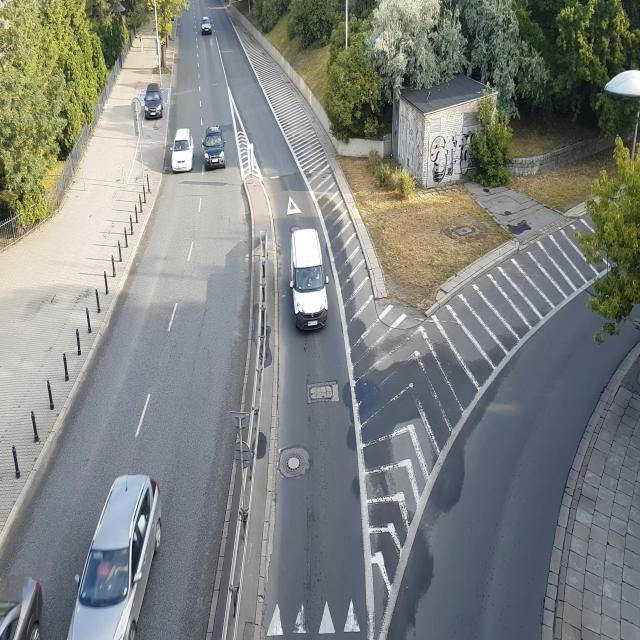car: (62, 443, 176, 640), (288, 223, 334, 340), (0, 562, 45, 640), (202, 128, 226, 172), (171, 130, 194, 174), (143, 88, 165, 120), (200, 19, 212, 34)
